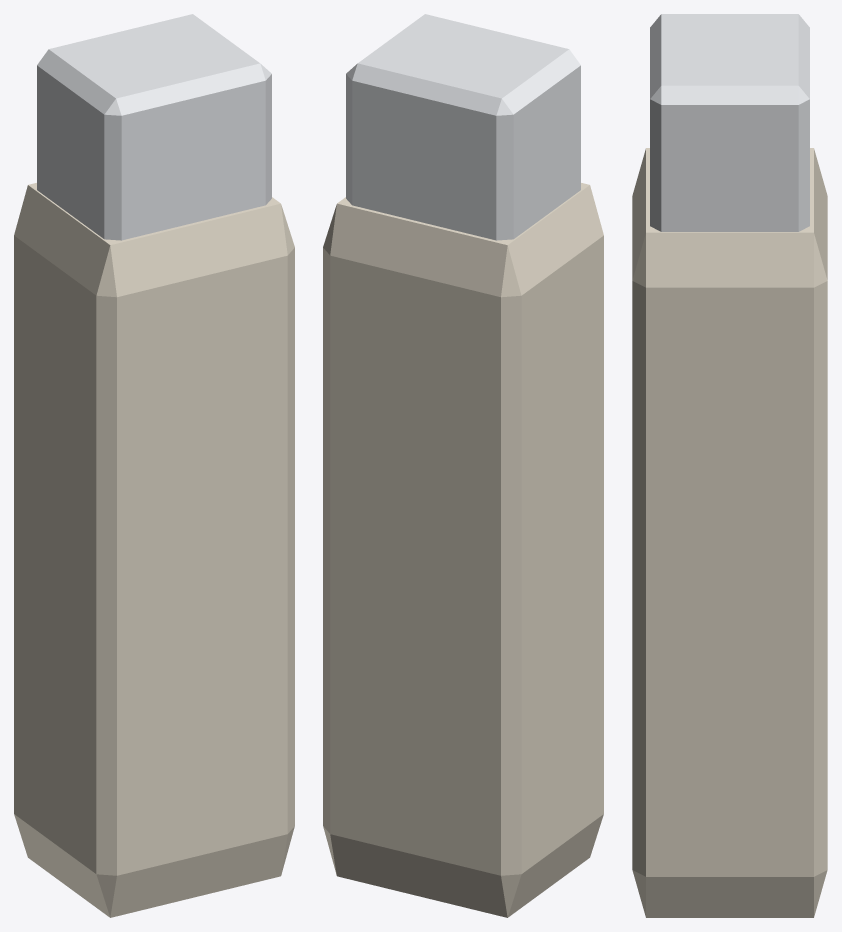
The model's file is b17_outdoor_two_way_radio.glb.
3 views of the same model, side by side, from view 1: azimuth 30°, elevation 25°; view 2: azimuth 150°, elevation 25°; view 3: azimuth 270°, elevation 25° (orthographic).
Visible parts, largest first — view 1: b17_outdoor_two_way_radio; view 2: b17_outdoor_two_way_radio; view 3: b17_outdoor_two_way_radio.
Boxes of the visible parts, x1,y1,x2,y2 form: b17_outdoor_two_way_radio: (14, 14, 294, 917); b17_outdoor_two_way_radio: (323, 14, 603, 917); b17_outdoor_two_way_radio: (632, 14, 827, 917).
Size of the model in its own units: 0.061 by 0.238 by 0.051.
